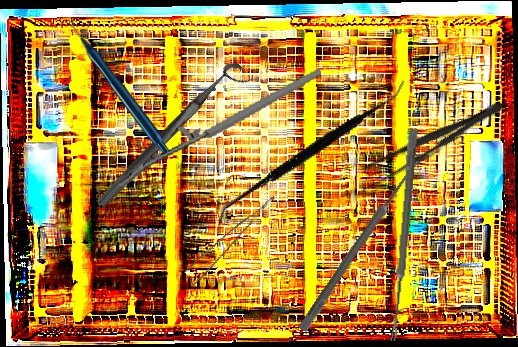Dressing Forceps: (352, 92, 510, 196)
Fixation Ring: (95, 57, 254, 221)
Handpiece: (71, 18, 170, 152)
Needle Holder: (104, 67, 335, 191)
Spatula Surgical: (215, 34, 408, 272)
Surgical Spoon: (297, 151, 426, 334), (389, 128, 418, 342)
Tissue Forceps: (179, 196, 288, 285)
